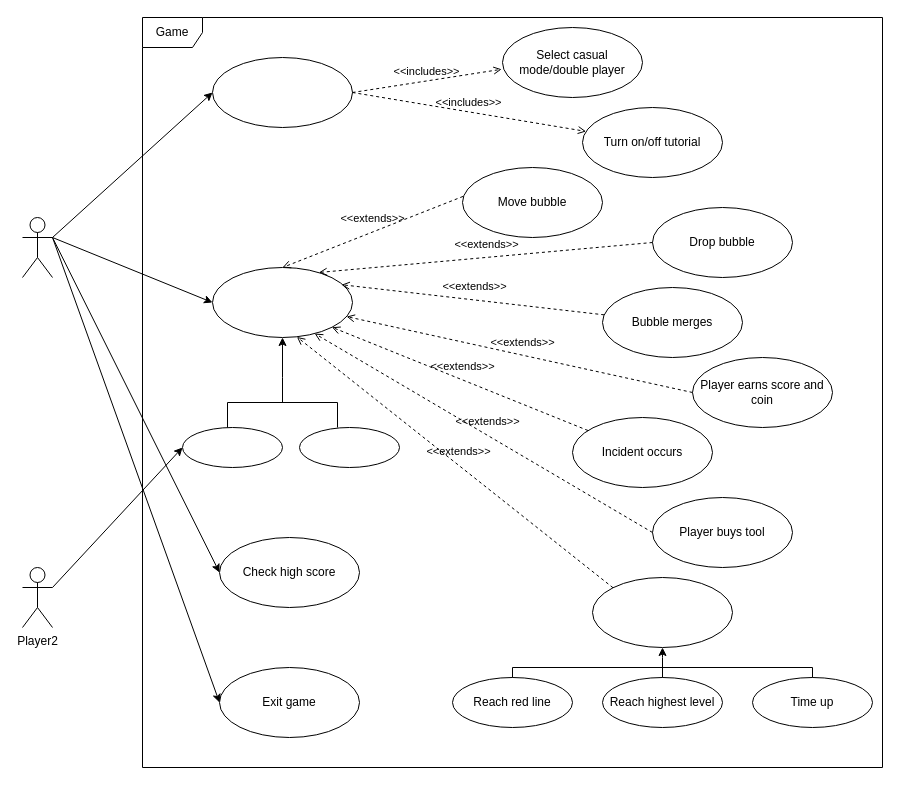
Image size: 900x785. Some labels were removed from this diagram. The centre of each missing label's shape, as x and y in pixels:
"Casual mode" belongs at pixel 349 447.
"Double Player" belongs at pixel 232 447.
"Game ends" belongs at pixel 662 612.
"Play game" belongs at pixel 282 302.
"Player1" belongs at pixel 37 247.
"Start game" belongs at pixel 282 92.
